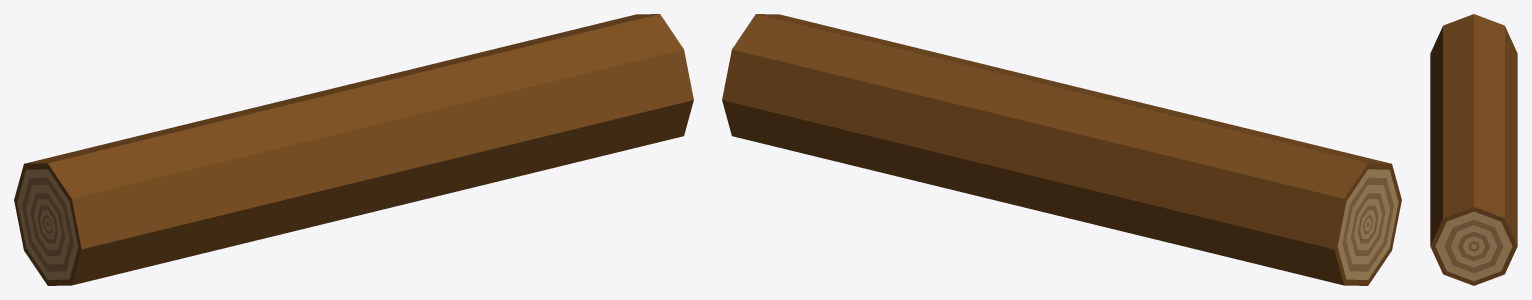
File: sima_log.fbx
3 renders of one model, left to right at view 1: azimuth 30°, elevation 25°; view 2: azimuth 150°, elevation 25°; view 3: azimuth 270°, elevation 25°, orthographic. The views are drawn at different scales.
Visible parts, largest first — view 1: Cylinder.011; view 2: Cylinder.011; view 3: Cylinder.011.
Boxes of the visible parts, x1=… form: Cylinder.011: x1=14, y1=14, x2=693, y2=285; Cylinder.011: x1=722, y1=14, x2=1401, y2=285; Cylinder.011: x1=1430, y1=14, x2=1517, y2=285.
Size of the model in its own units: 141 by 735 by 141.
